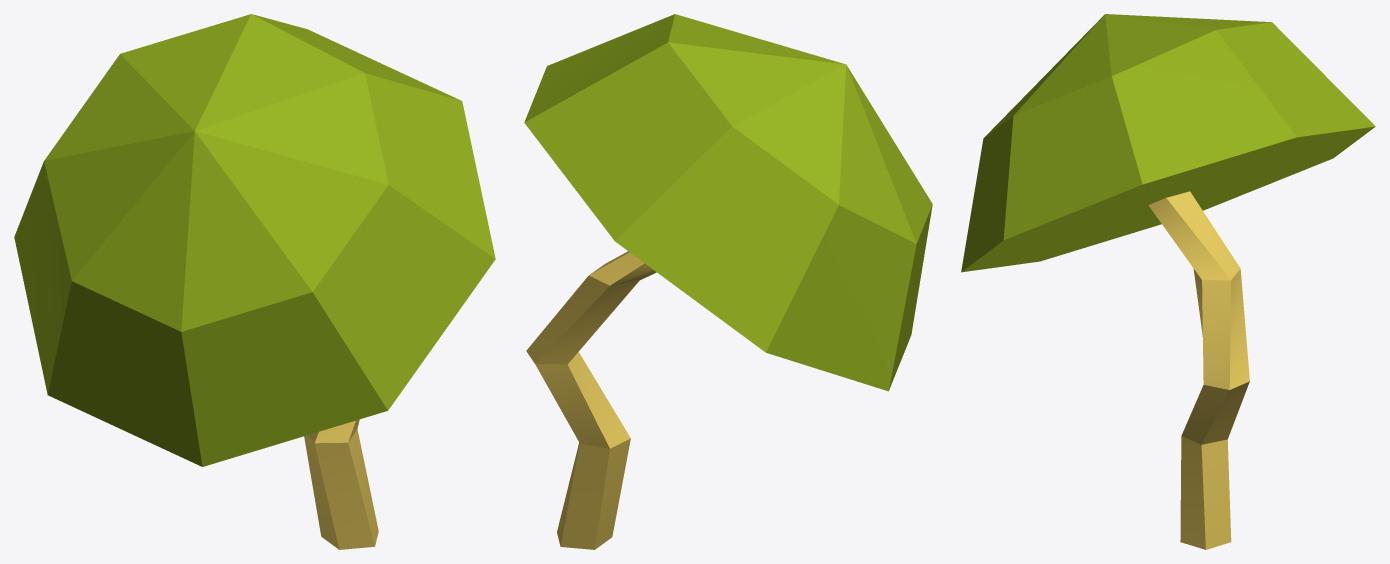
Rendered from Mushroom_g_b_02.fbx.
The picture shows the model from 3 angles, left to right: view 1: azimuth 30°, elevation 25°; view 2: azimuth 150°, elevation 25°; view 3: azimuth 270°, elevation 25°; orthographic projection. The views are drawn at different scales.
Parts seen in each view (by area): view 1: Mushroom_g_b_02_LOD0; view 2: Mushroom_g_b_02_LOD0; view 3: Mushroom_g_b_02_LOD0.
Boxes of the visible parts, x1,y1,x2,y2 form: Mushroom_g_b_02_LOD0: (14, 14, 495, 549); Mushroom_g_b_02_LOD0: (524, 14, 932, 549); Mushroom_g_b_02_LOD0: (961, 14, 1375, 549).
Size of what is drawn, in the model's own units: 3 by 4.01 by 3.22.
